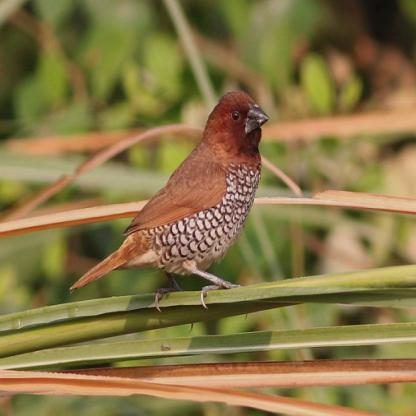Burung: (69, 90, 269, 311)
